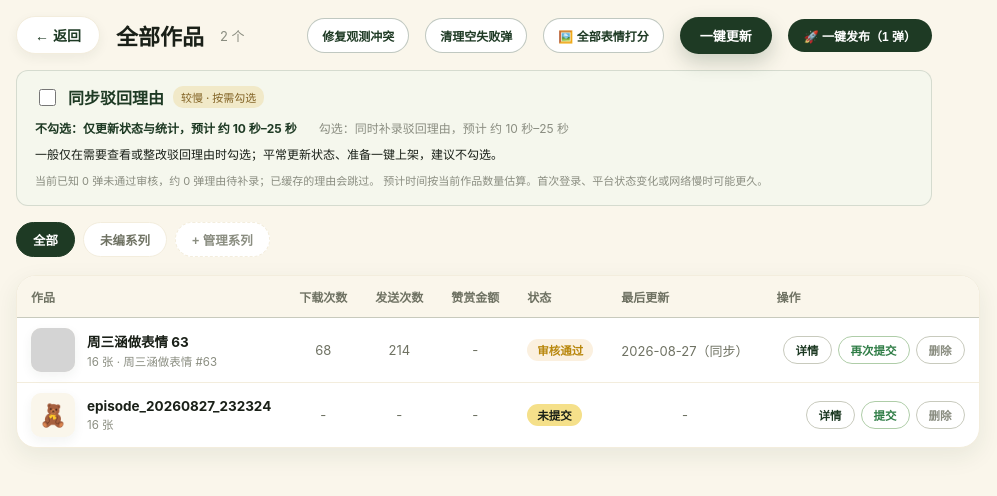
Test: 作品库微信风表格 › 预约上架结果与取消结果使用弹 cancelled=false
This screenshot has width=997, height=496.
What coordinates should you click on to do the following:
click the button with class "shelf-btn"
I would click on:
 (860, 35)
Its box is [788,18,932,52].
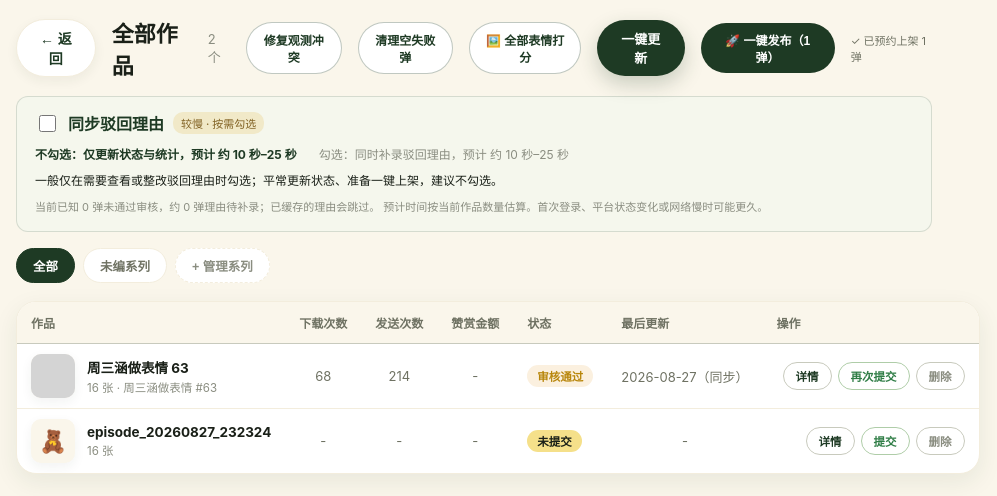
Check: the text "已预约上架 1 弹" is shown, box [851,34,926,64]
